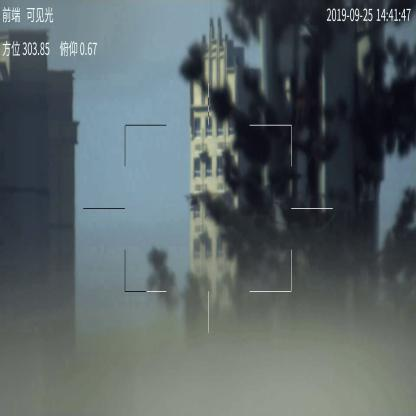uav: (182, 190, 204, 214)
